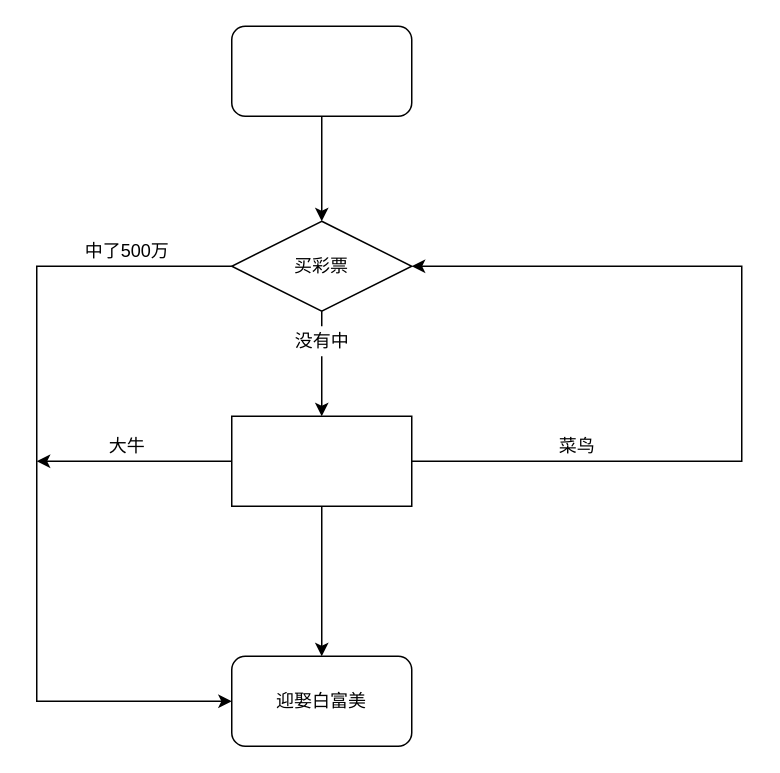
This 780x773 diagram has some shape labels left out. The centre of each missing label's shape, as x and y in pixels:
"加入比特" goes at pixel 321 70.
"老实学习" goes at pixel 321 460.
